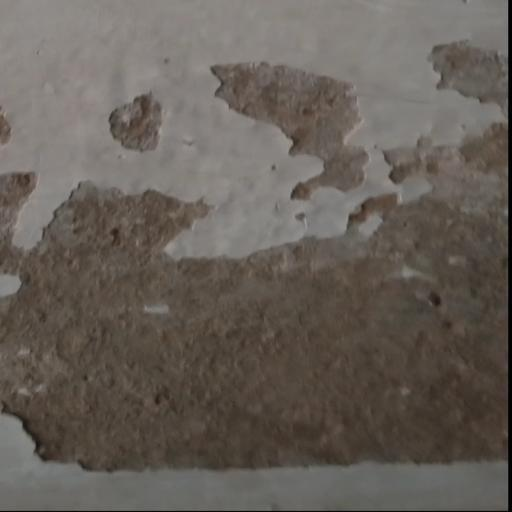peeling: (0, 98, 512, 473), (206, 42, 382, 217), (413, 21, 512, 128), (89, 75, 195, 169)
